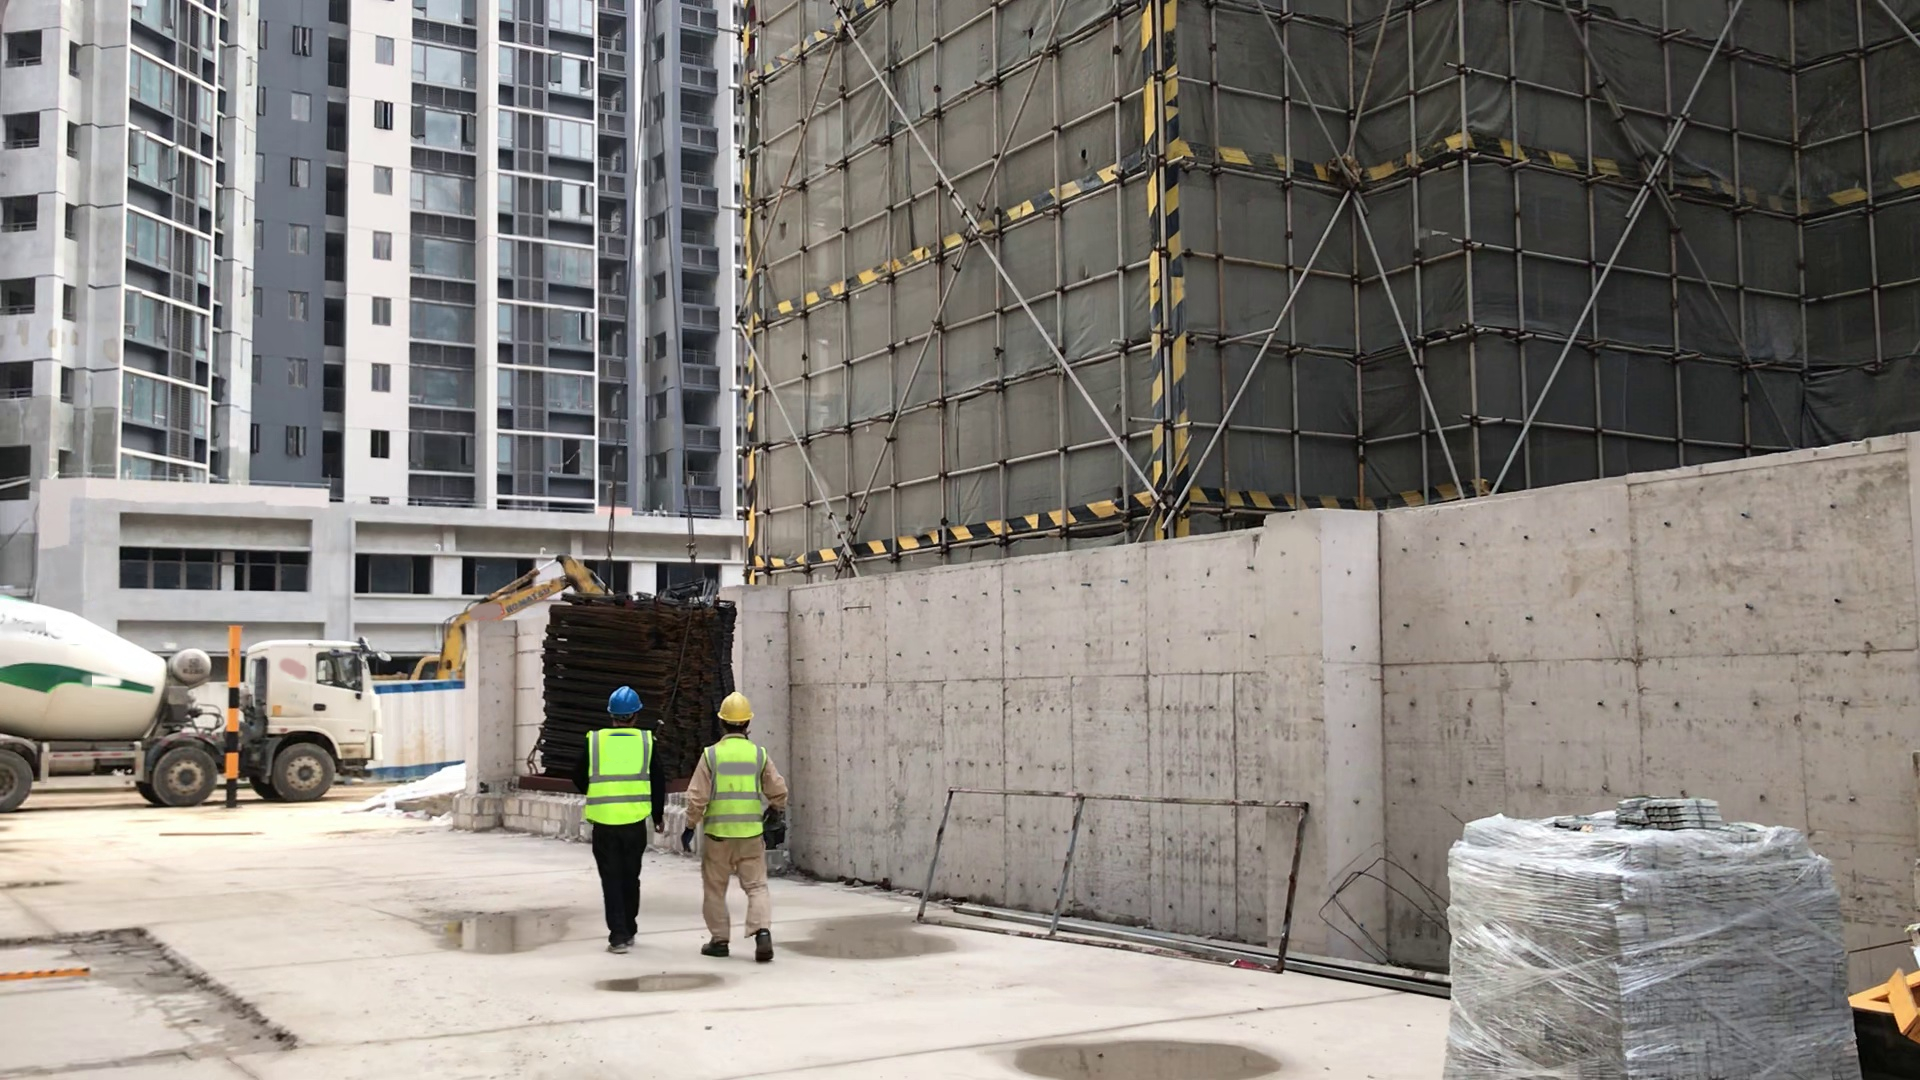helmet: (715, 690, 762, 732), (603, 680, 645, 725)
person: (696, 694, 797, 959), (585, 676, 657, 956)
vest: (694, 746, 781, 842), (584, 733, 647, 820)
